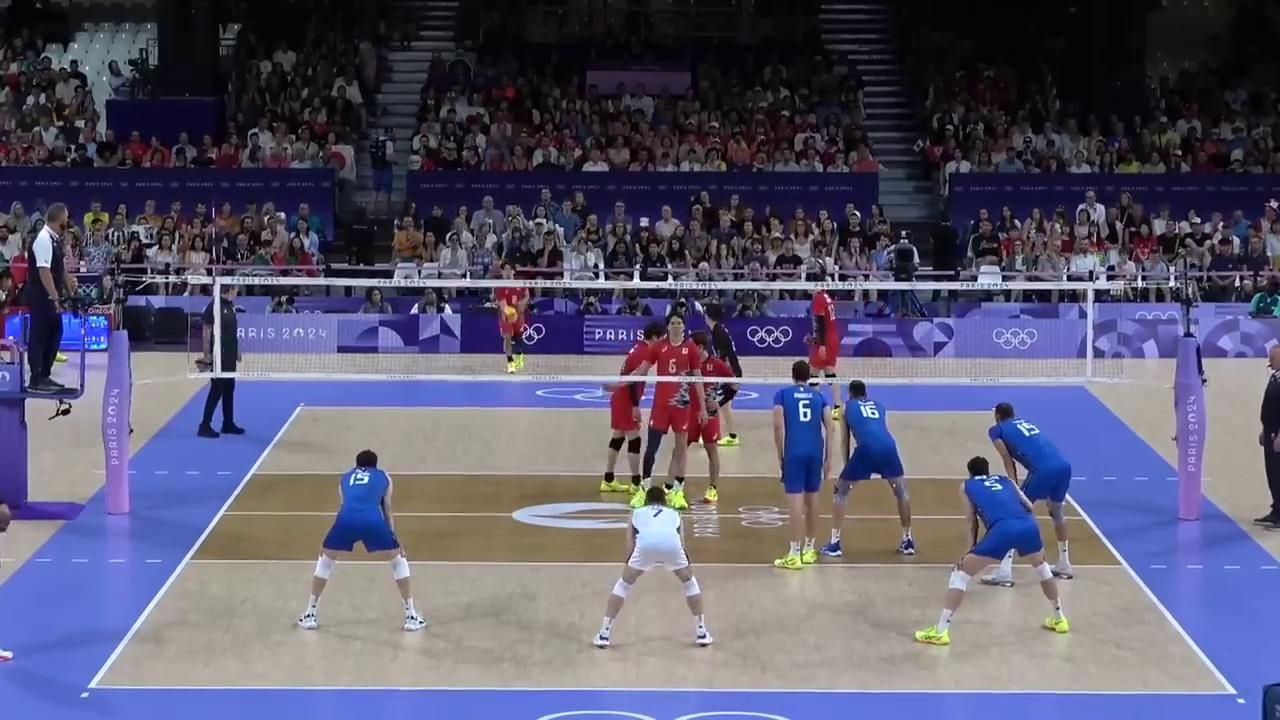ball: (504, 307, 517, 323)
